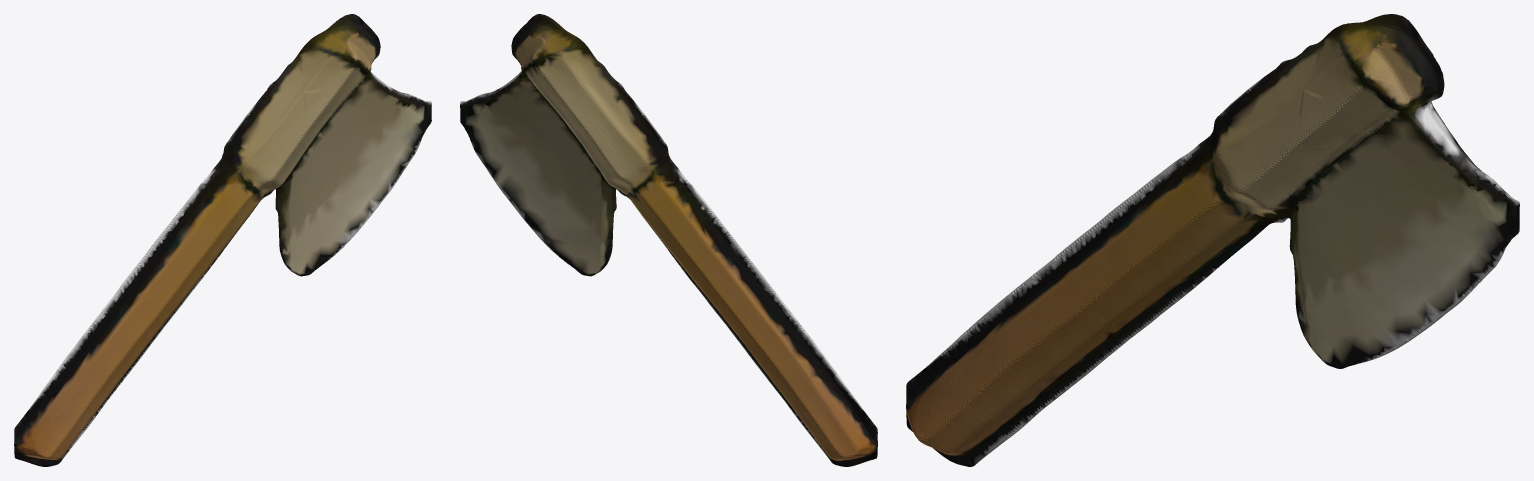
File: b_axe1.glb
3 views of the same model, side by side, from view 1: azimuth 30°, elevation 25°; view 2: azimuth 150°, elevation 25°; view 3: azimuth 330°, elevation 25° (orthographic). The views are drawn at different scales.
Parts seen in each view (by area): view 1: geometry_0; view 2: geometry_0; view 3: geometry_0.
Boxes of the visible parts, x1=… form: geometry_0: x1=14, y1=14, x2=431, y2=466; geometry_0: x1=460, y1=14, x2=877, y2=466; geometry_0: x1=906, y1=14, x2=1519, y2=466.
Bounding box in the file's own units: 1 × 0.8673 × 0.1228.
